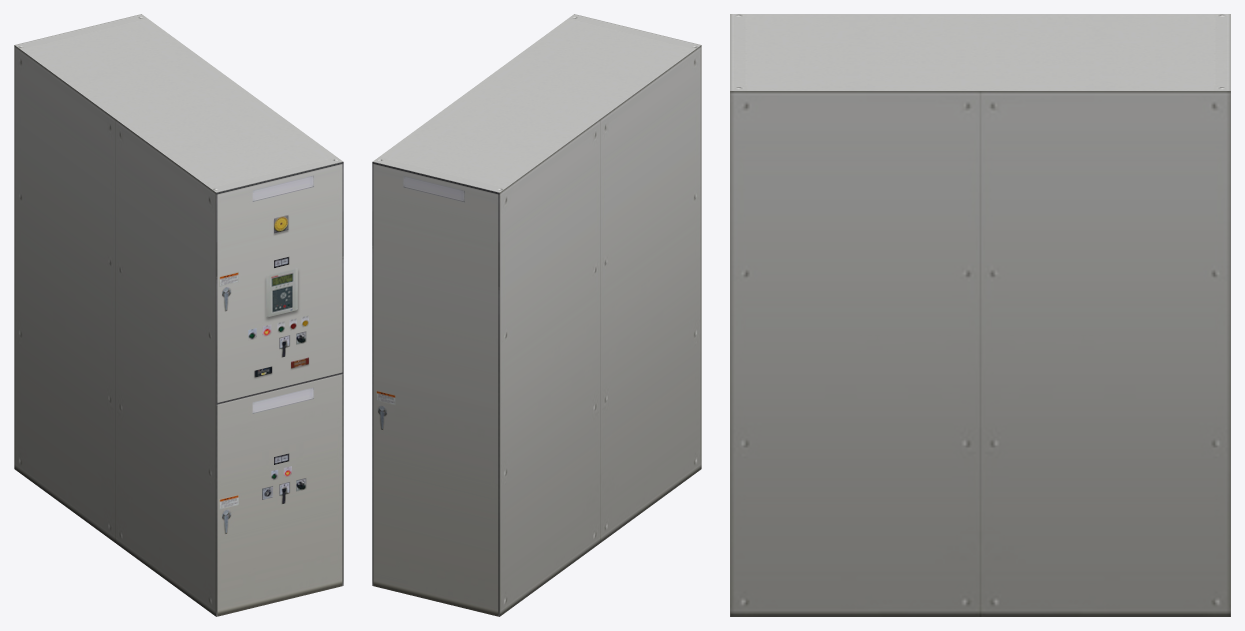
3 views of the same model, side by side, from view 1: azimuth 30°, elevation 25°; view 2: azimuth 150°, elevation 25°; view 3: azimuth 270°, elevation 25° (orthographic). The views are drawn at different scales.
Visible parts, largest first — view 1: LV-H1-D029; view 2: LV-H1-D029; view 3: LV-H1-D029.
Boxes of the visible parts, x1,y1,x2,y2 form: LV-H1-D029: [14, 14, 343, 616]; LV-H1-D029: [372, 14, 701, 616]; LV-H1-D029: [730, 14, 1230, 616].
Bounding box in the file's own units: 0.8 × 2.55 × 2.2.
Materials: 1 (1 with a texture image).
